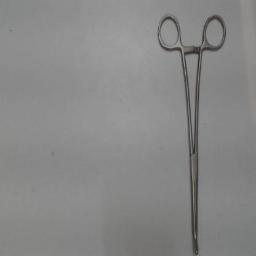Lahey Forceps: (157, 9, 229, 253)
